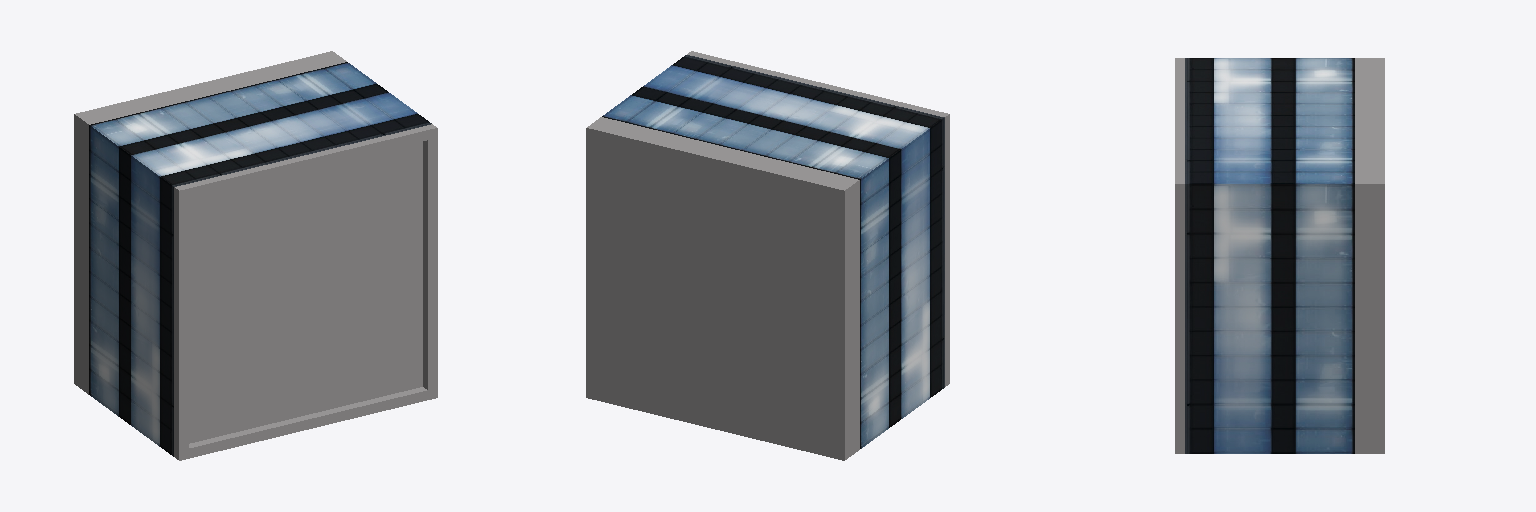
The picture shows the model from 3 angles: view 1: azimuth 30°, elevation 25°; view 2: azimuth 150°, elevation 25°; view 3: azimuth 270°, elevation 25°; orthographic projection.
Visible parts, largest first — view 1: object_1, object_3, object_4, object_2, object_8; view 2: object_8, object_3, object_4, object_2; view 3: object_5, object_4, object_8, object_2.
Part boxes in pixels (bbox=[...]): object_1: bbox=[189, 142, 422, 443]; object_3: bbox=[89, 125, 173, 456]; object_4: bbox=[90, 62, 431, 186]; object_2: bbox=[174, 124, 437, 460]; object_8: bbox=[74, 51, 346, 394]; object_8: bbox=[586, 117, 859, 460]; object_3: bbox=[860, 118, 944, 448]; object_4: bbox=[602, 55, 944, 179]; object_2: bbox=[687, 51, 949, 386]; object_5: bbox=[1185, 184, 1354, 453]; object_4: bbox=[1185, 58, 1354, 183]; object_8: bbox=[1355, 58, 1384, 453]; object_2: bbox=[1175, 58, 1184, 453].
Bounding box in the file's own units: 3.19 × 3.19 × 2.25.
Materials: 3 (1 with a texture image).